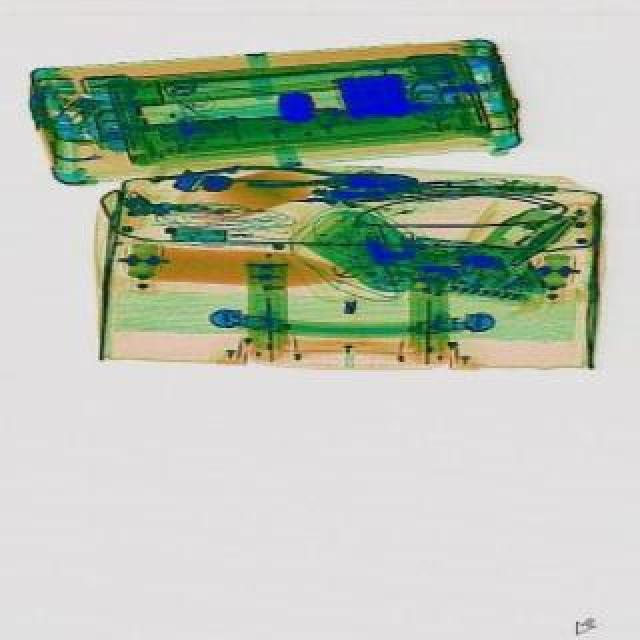scissors: (146, 168, 238, 186)
wrench: (232, 166, 414, 194)
